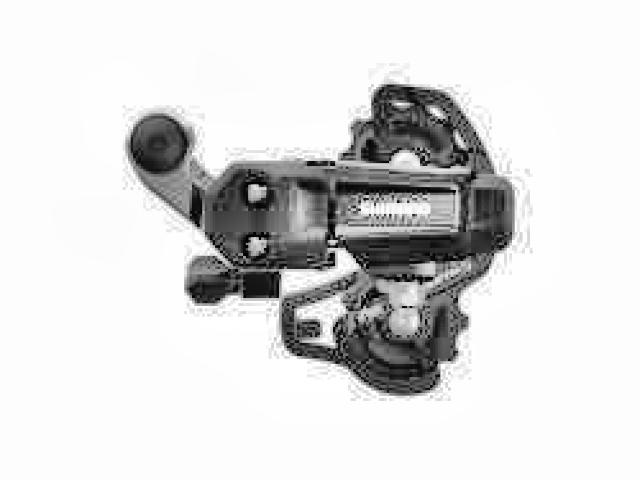rear_derailleur: (117, 81, 524, 404)
